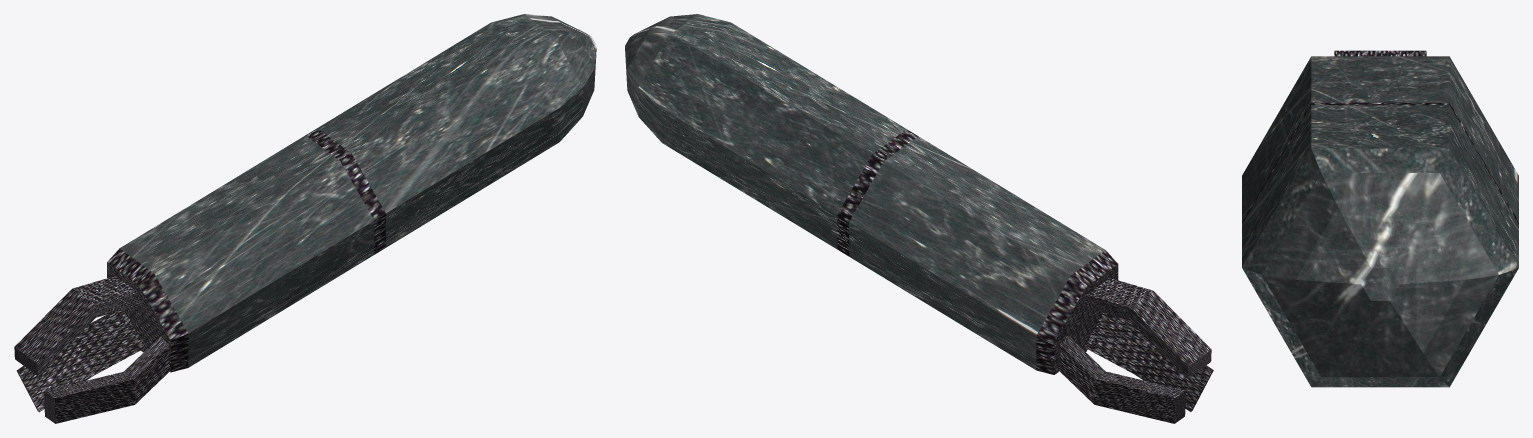
Rendered from larm.gltf.
3 renders of one model, left to right at view 1: azimuth 30°, elevation 25°; view 2: azimuth 150°, elevation 25°; view 3: azimuth 270°, elevation 25°, orthographic. The views are drawn at different scales.
Visible parts, largest first — view 1: arms, 立方体, 立方体.001, 立方体.002; view 2: arms, 立方体, 立方体.001, 立方体.002; view 3: arms, 立方体.
Part boxes in pixels (<box>): arms: <box>107,14,596,372</box>; 立方体: <box>14,276,142,375</box>; 立方体.001: <box>16,309,144,412</box>; 立方体.002: <box>44,336,169,423</box>; arms: <box>625,14,1118,374</box>; 立方体: <box>1083,278,1211,378</box>; 立方体.001: <box>1059,335,1185,423</box>; 立方体.002: <box>1084,312,1213,411</box>; arms: <box>1242,56,1518,387</box>; 立方体: <box>1334,50,1426,56</box>.
Bounding box in the file's own units: 2.84 × 1.29 × 0.6002.
Materials: 2 (2 with a texture image).
